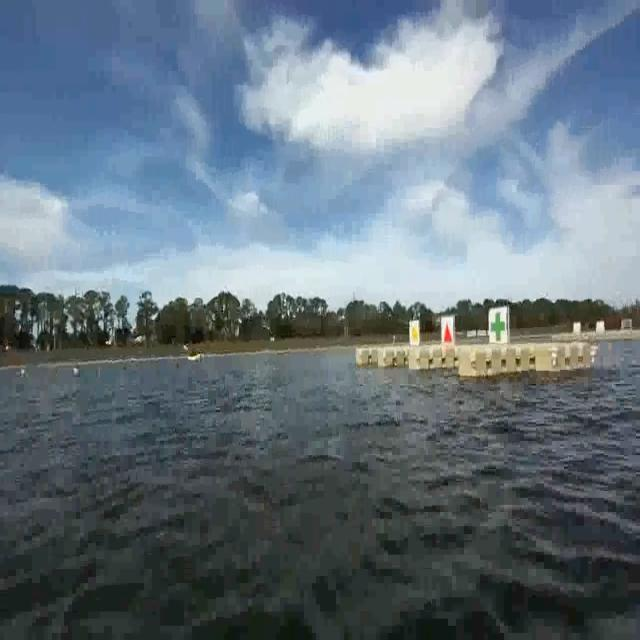blue-cross: (488, 309, 506, 340)
red-dot: (442, 316, 454, 346)
yellow-duck: (410, 322, 419, 346)
